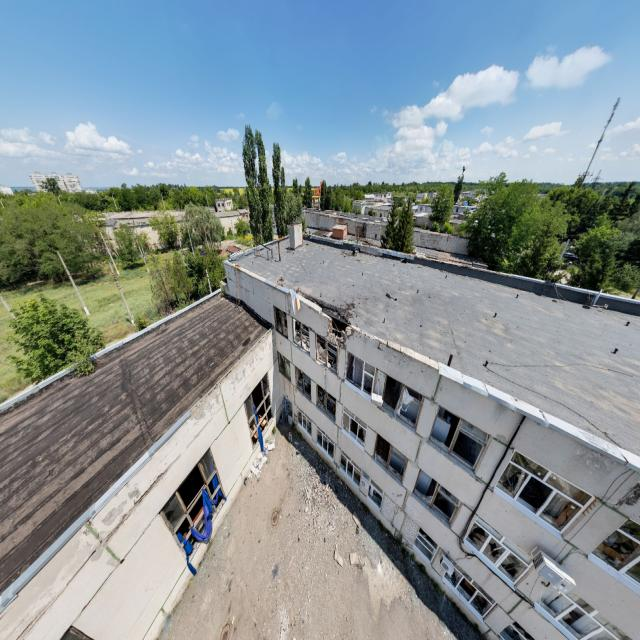broken_window: (496, 450, 596, 535), (413, 526, 497, 623), (161, 448, 225, 561), (537, 583, 633, 640), (464, 515, 534, 587), (429, 406, 494, 475), (591, 518, 640, 592), (412, 467, 463, 526), (243, 372, 273, 448), (381, 377, 424, 430), (374, 433, 409, 484), (345, 354, 377, 399), (341, 405, 369, 449), (340, 450, 361, 491), (316, 384, 335, 422), (317, 426, 335, 462), (295, 366, 312, 403), (367, 479, 384, 514), (498, 625, 537, 640), (273, 305, 288, 340), (298, 406, 312, 439), (278, 352, 290, 380), (286, 401, 292, 424)
building: (0, 266, 640, 640)
damage: (315, 334, 338, 376), (323, 312, 351, 345), (292, 319, 309, 353)
damaged_roof: (286, 288, 355, 325)
other: (162, 415, 483, 640)
roof: (227, 230, 640, 467), (0, 292, 272, 606)
